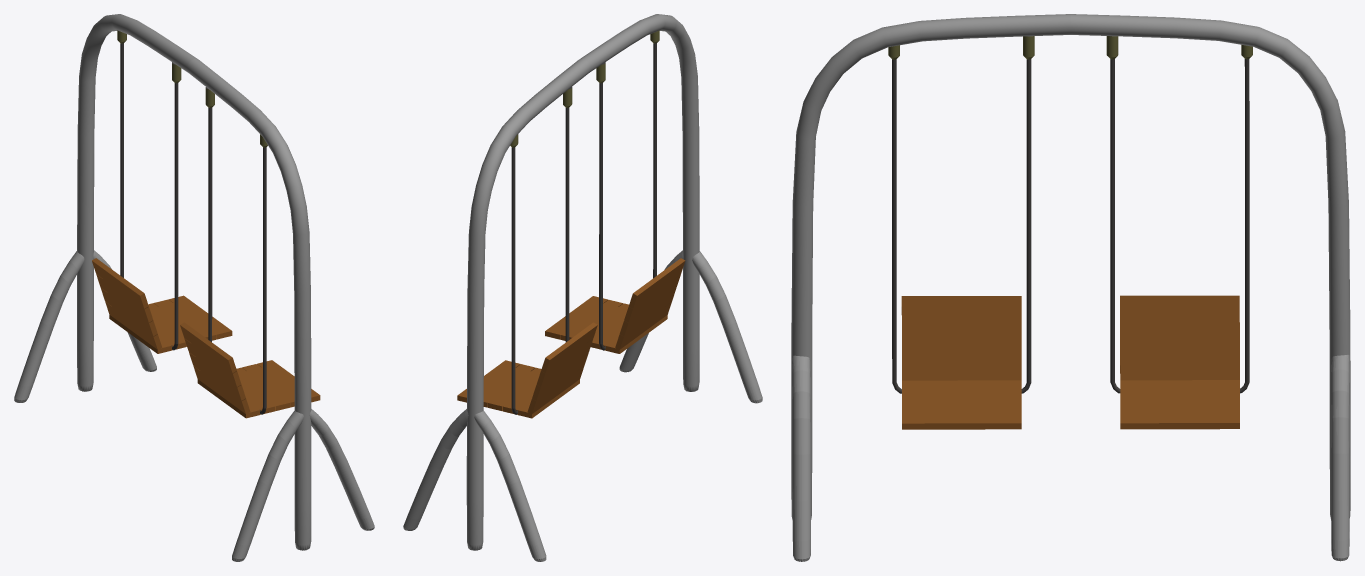
File: Balança.fbx
3 renders of one model, left to right at view 1: azimuth 30°, elevation 25°; view 2: azimuth 150°, elevation 25°; view 3: azimuth 270°, elevation 25°, orthographic. The views are drawn at different scales.
Visible parts, largest first — view 1: Cylinder.011, Cube.149, Cube.148, Cylinder.010; view 2: Cylinder.011, Cube.149, Cube.148, Cylinder.010; view 3: Cylinder.011, Cube.149, Cube.148, Cylinder.010.
Part boxes in pixels (x1,y1,x2,y2): Cylinder.011: (14,14,374,561); Cube.149: (92,258,250,413); Cube.148: (109,295,320,418); Cylinder.010: (117,30,267,414); Cylinder.011: (403,14,762,561); Cube.149: (527,258,685,413); Cube.148: (457,296,667,418); Cylinder.010: (510,30,659,414); Cylinder.011: (791,14,1350,561); Cube.149: (901,295,1239,380); Cube.148: (902,380,1239,429); Cylinder.010: (888,36,1252,393).
Bounding box in the file's own units: 1350 × 3720 × 3711.
